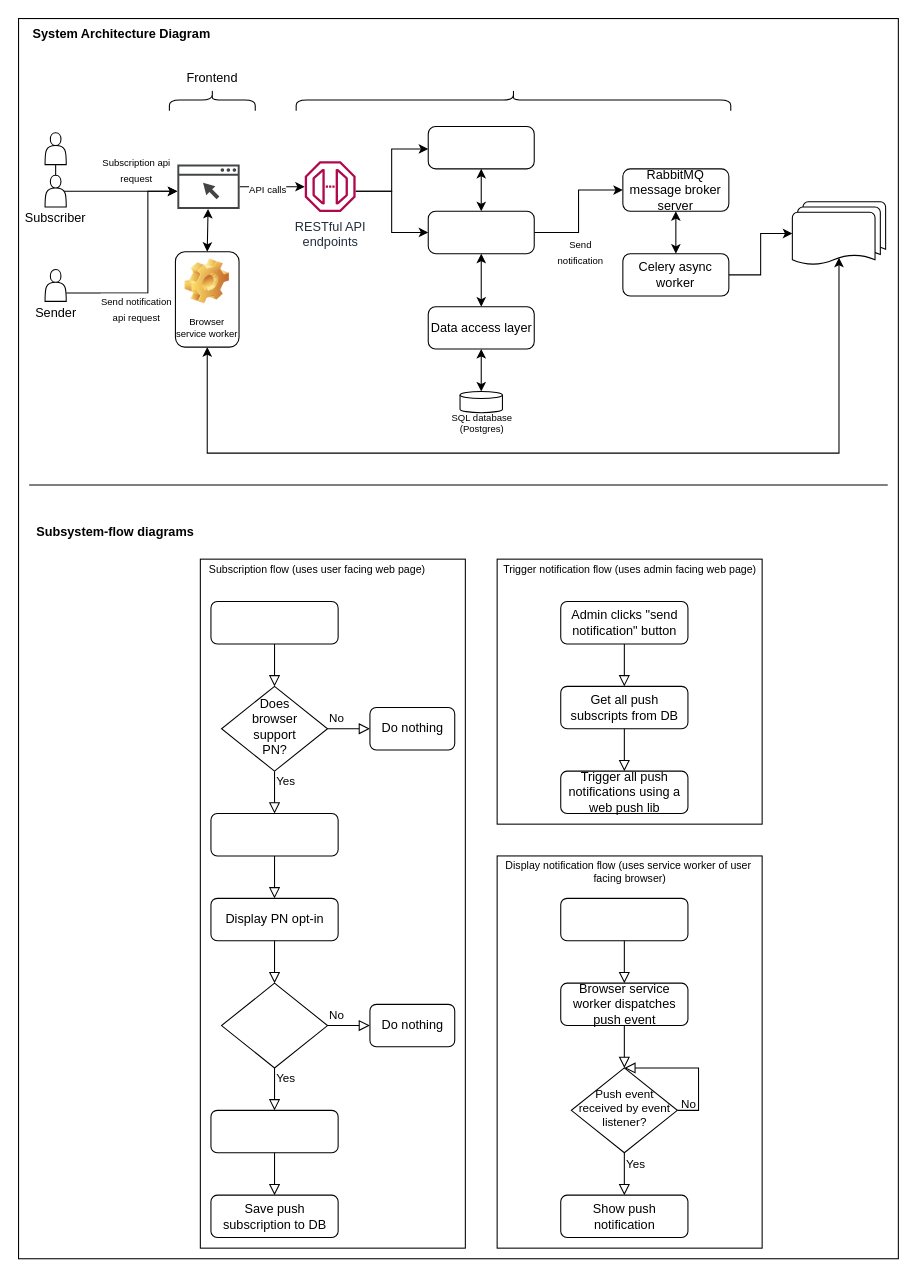
The diagram is 917 pixels wide and 1277 high, and some of its shapes have lost their labels. The centre of each missing label's shape, as x and y in pixels:
Backend: pixel 513 99
Browser Push Service: pixel 838 233
Notification service: pixel 480 232
Push service wakes up service worker on push event: pixel 624 919
Service worker registration: pixel 274 834
Subscribe browser with Push Service: pixel 274 1131
Subscription service: pixel 480 147
User allows PN?: pixel 274 1025
User opens webapp in browser: pixel 274 622
